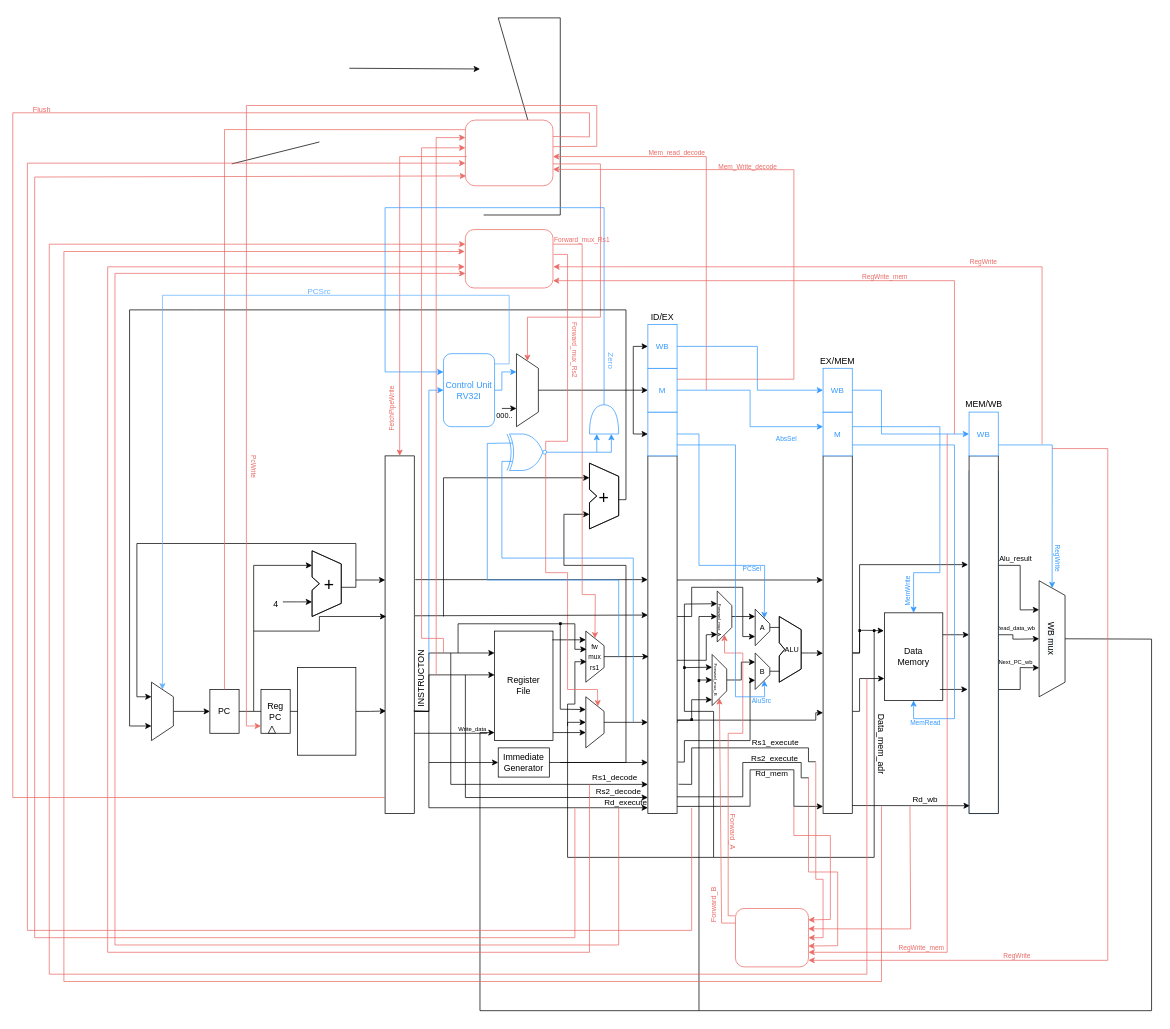
Image size: 1170x1029. Some labels were removed from this diagram. The shapes that lost their labels are listed below. From the top down, each one's centre as x and y in pixels, then its label:
At pixel 509 152: "Hazard Detention Unit".
At pixel 509 258: "Branch forwarding Unit".
At pixel 662 433: "EX".
At pixel 399 634: "IF/ID".
At pixel 162 711: "PC mux".
At pixel 326 711: "Instruction Memory".
At pixel 594 722: "fw mux rs2".
At pixel 771 937: "Forwarding Unit".
